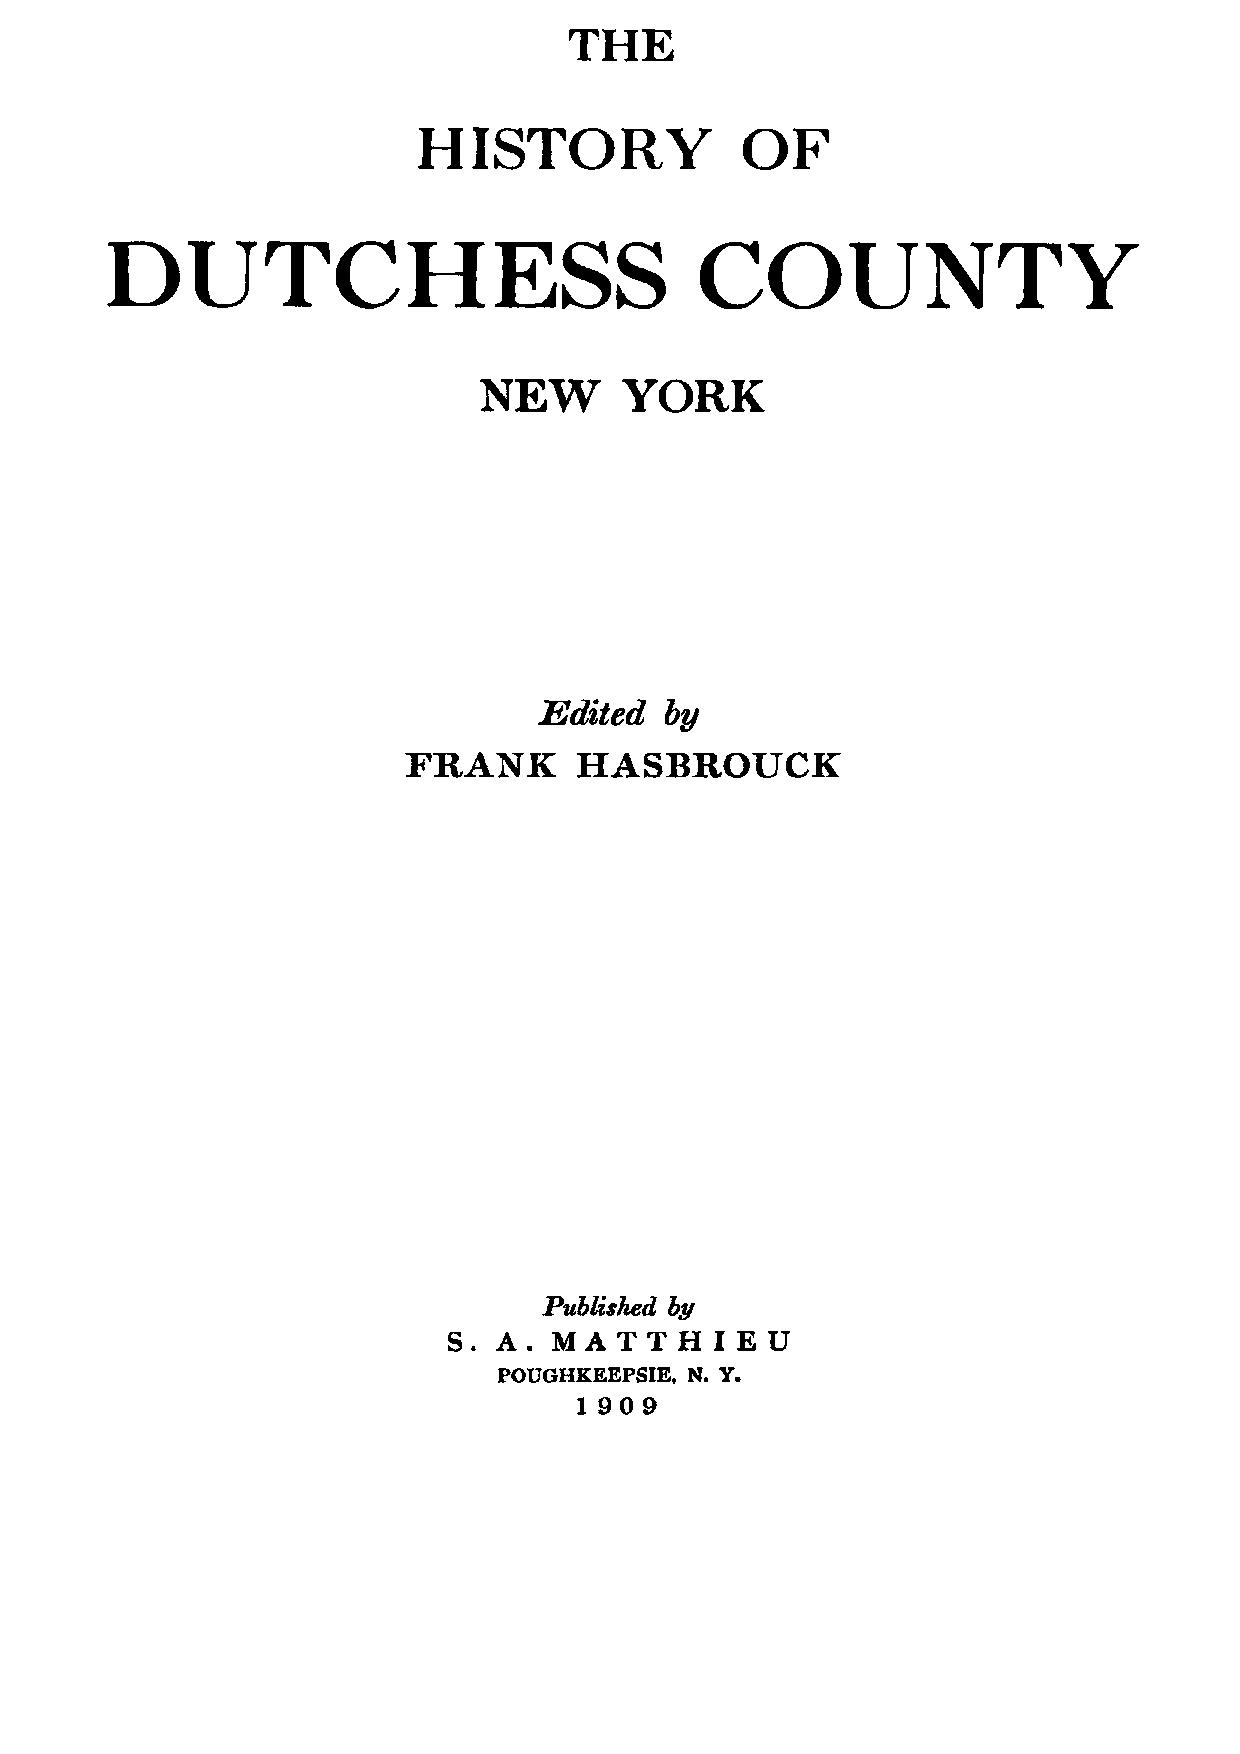author: (401, 692, 841, 782)
title: (101, 25, 1139, 413)
